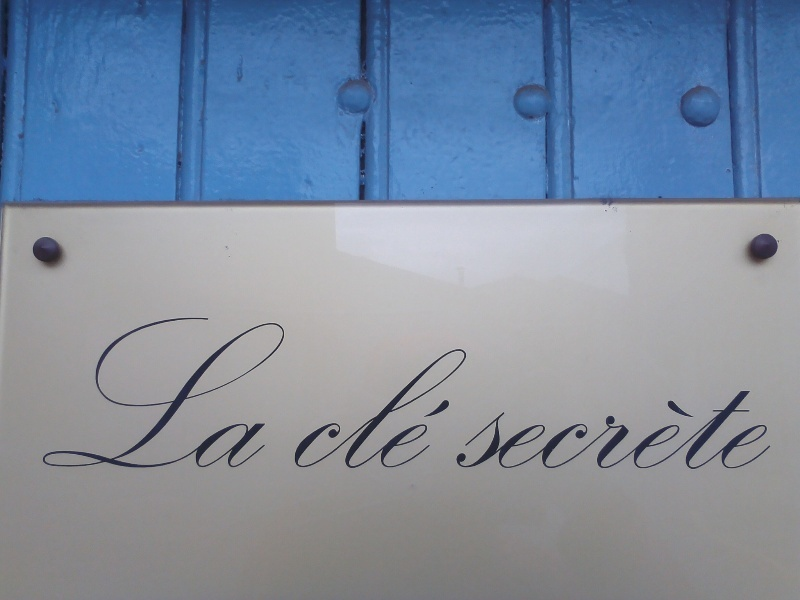text: (129, 311, 144, 470), (145, 311, 160, 470), (161, 311, 176, 470), (177, 311, 192, 470), (193, 311, 208, 470), (209, 311, 224, 470), (225, 311, 240, 470), (241, 311, 256, 470), (257, 311, 272, 470), (273, 311, 288, 470), (321, 344, 336, 469), (337, 344, 352, 469), (353, 344, 368, 469), (369, 344, 384, 469), (385, 344, 400, 469), (401, 344, 416, 469), (417, 344, 432, 469), (433, 344, 448, 469), (449, 344, 464, 469), (289, 311, 297, 470), (481, 388, 496, 471), (497, 388, 512, 471), (513, 388, 528, 471), (529, 388, 544, 471), (545, 388, 560, 471), (561, 388, 576, 471), (577, 388, 592, 471), (593, 388, 608, 471), (609, 388, 624, 471), (625, 388, 640, 471), (641, 388, 656, 471), (657, 388, 672, 471), (673, 388, 688, 471), (689, 388, 704, 471), (705, 388, 720, 471), (721, 388, 736, 471), (737, 388, 752, 471), (753, 388, 768, 471), (769, 388, 781, 471), (122, 311, 128, 470), (465, 344, 471, 469), (318, 344, 320, 469), (477, 388, 480, 471)
